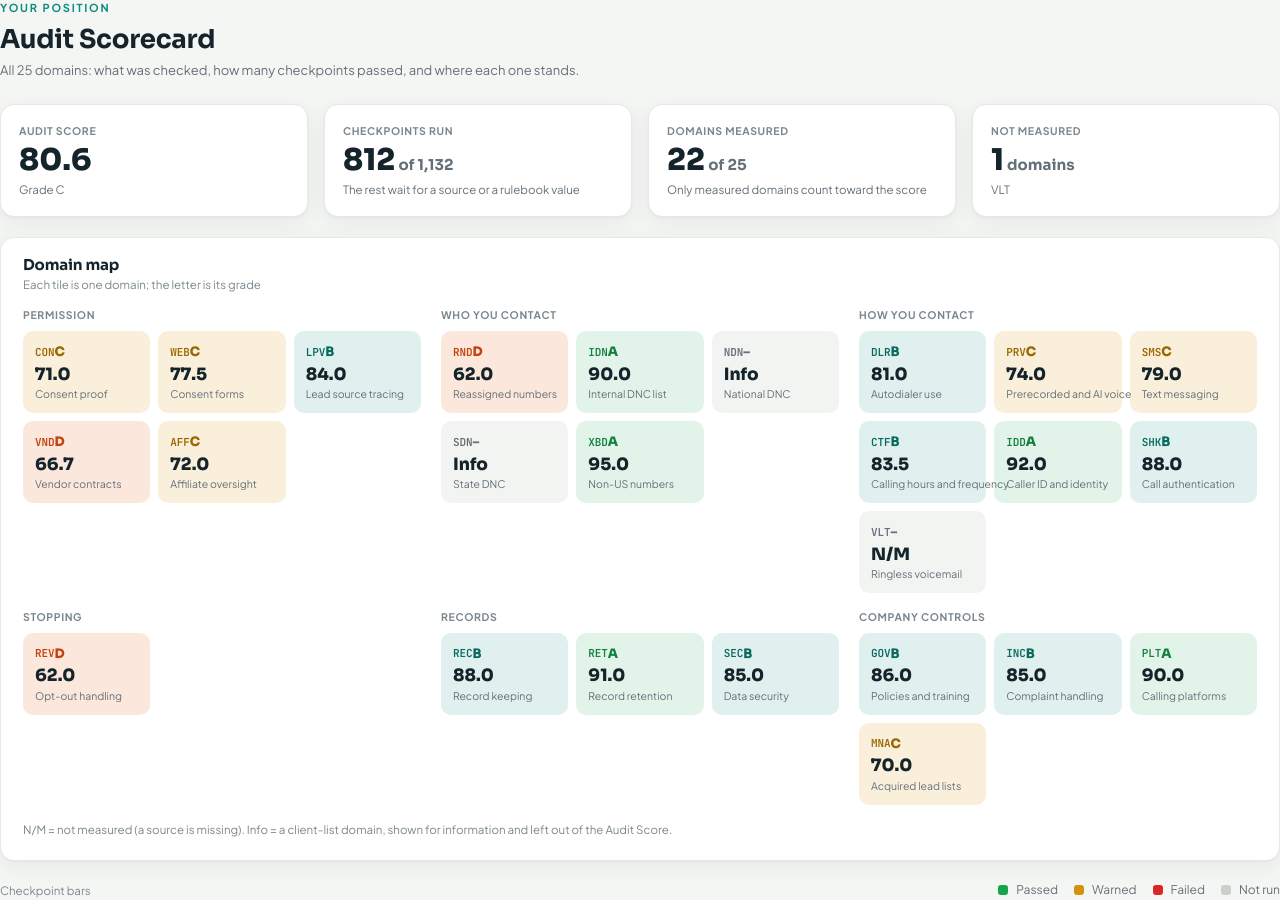
Test: interactions › opens a domain panel from the scorecard and switches tabs
What coordinates should you click on to do the following:
click the button with aria-label "Opt-out handling:"
I would click on:
 (87, 674)
Its box is [23,633,150,715].
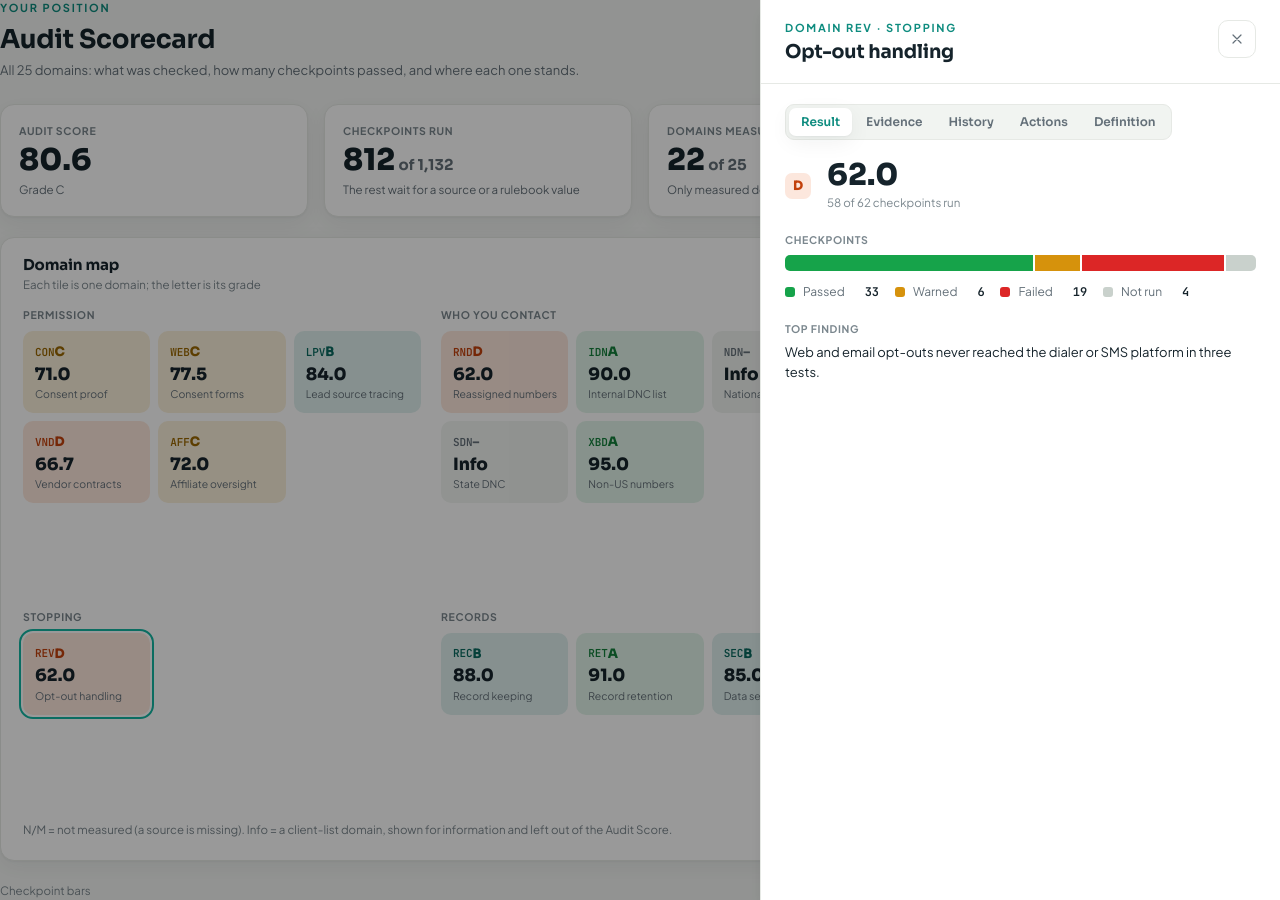
Now the text "Top finding" is shown, box [785,322,859,335]
What coordinates should you click on to do the following:
click the button "Definition"
I would click on:
 (1125, 122)
Its box is [1082,108,1168,136].
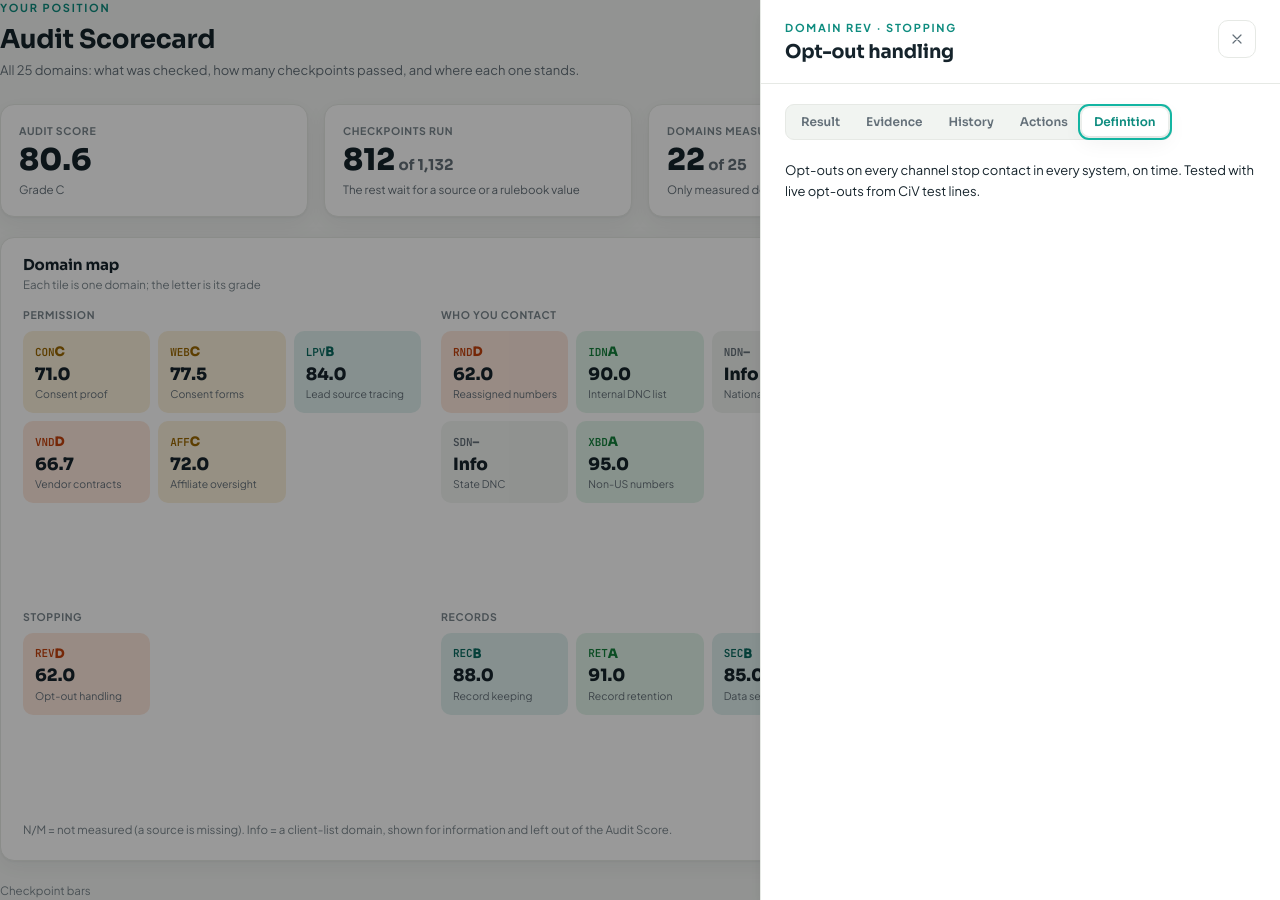
Now the text "Top finding" is gone
